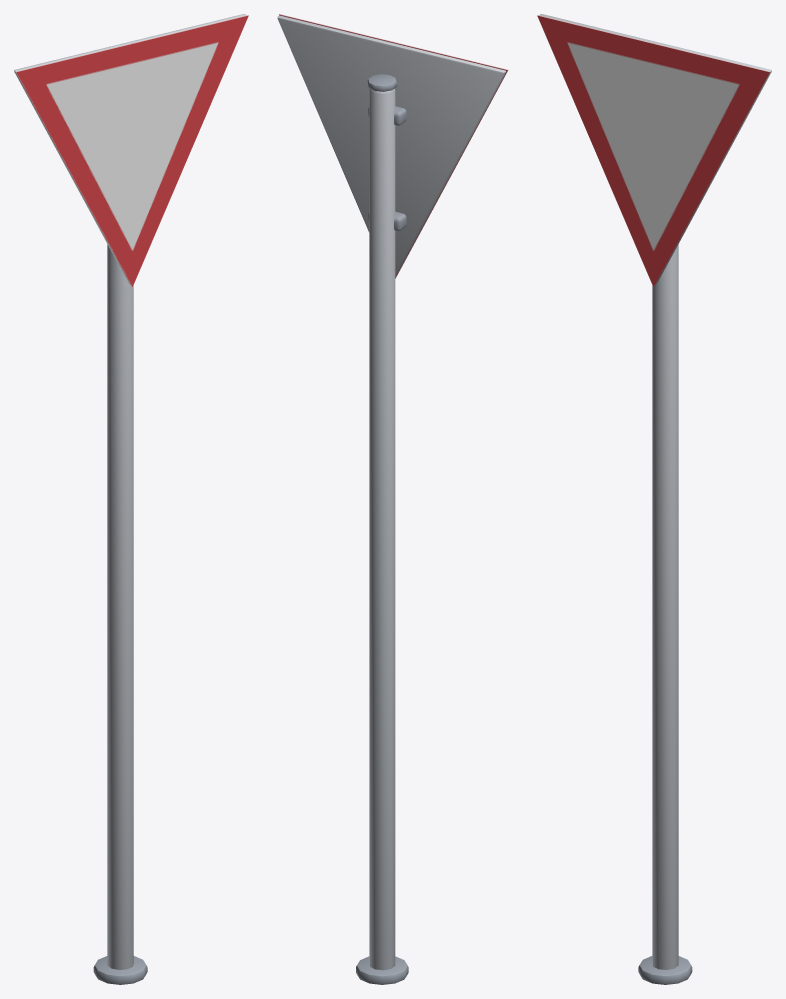
The model's file is placa_preferencia.glb.
3 renders of one model, left to right at view 1: azimuth 30°, elevation 25°; view 2: azimuth 150°, elevation 25°; view 3: azimuth 330°, elevation 25°, orthographic.
Parts seen in each view (by area): view 1: placa_preferencia; view 2: placa_preferencia; view 3: placa_preferencia.
Part boxes in pixels (<box>): placa_preferencia: <box>14,14,248,984</box>; placa_preferencia: <box>277,14,508,984</box>; placa_preferencia: <box>537,14,771,984</box>.
Size of the model in its own units: 0.7 by 2.7 by 0.14.
Materials: 2 (2 with a texture image).
